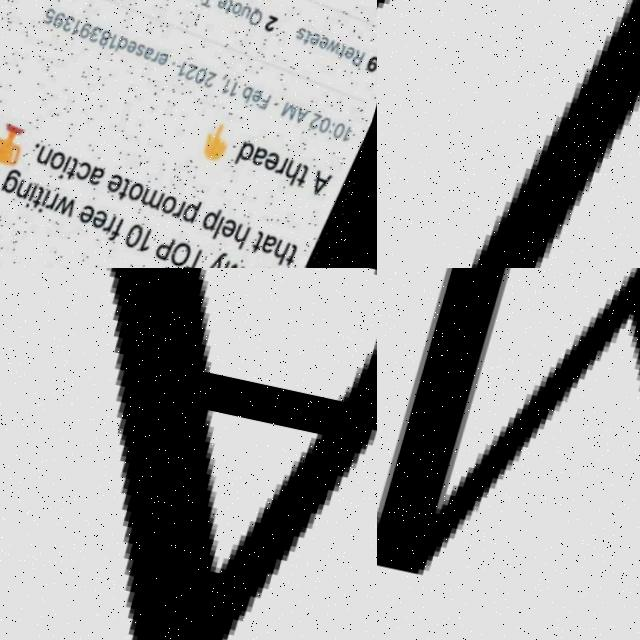0: (130, 221, 155, 251), (199, 66, 215, 86), (324, 115, 339, 135), (338, 122, 354, 140)
1: (147, 228, 165, 254), (226, 75, 241, 97), (182, 57, 197, 79), (75, 16, 91, 36), (233, 79, 248, 99), (112, 33, 126, 51), (349, 126, 360, 143)
2: (267, 13, 285, 34), (314, 111, 330, 131), (190, 62, 205, 82), (208, 72, 224, 90)
3: (92, 24, 108, 44), (66, 15, 82, 33)
5: (46, 6, 62, 26)
8: (102, 28, 118, 48)
9: (82, 20, 100, 40), (57, 10, 73, 30), (369, 53, 377, 74)
A: (0, 268, 377, 640)
D: (377, 0, 640, 268)
M: (377, 268, 640, 640)
